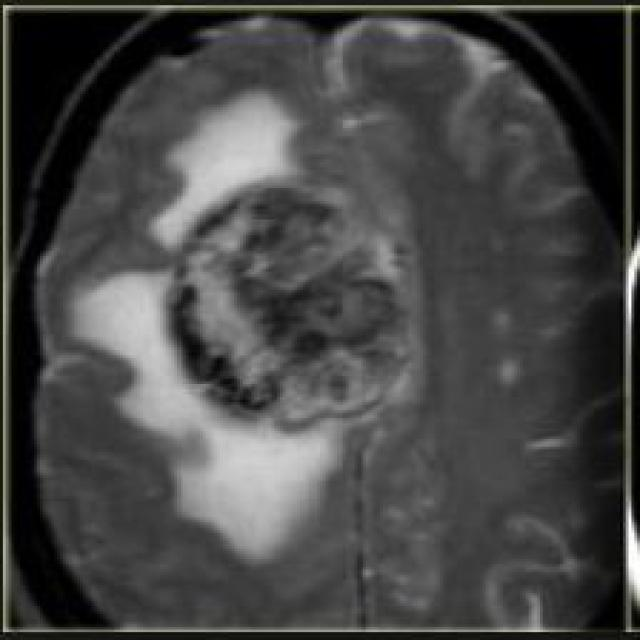tumor: (173, 146, 426, 427)
